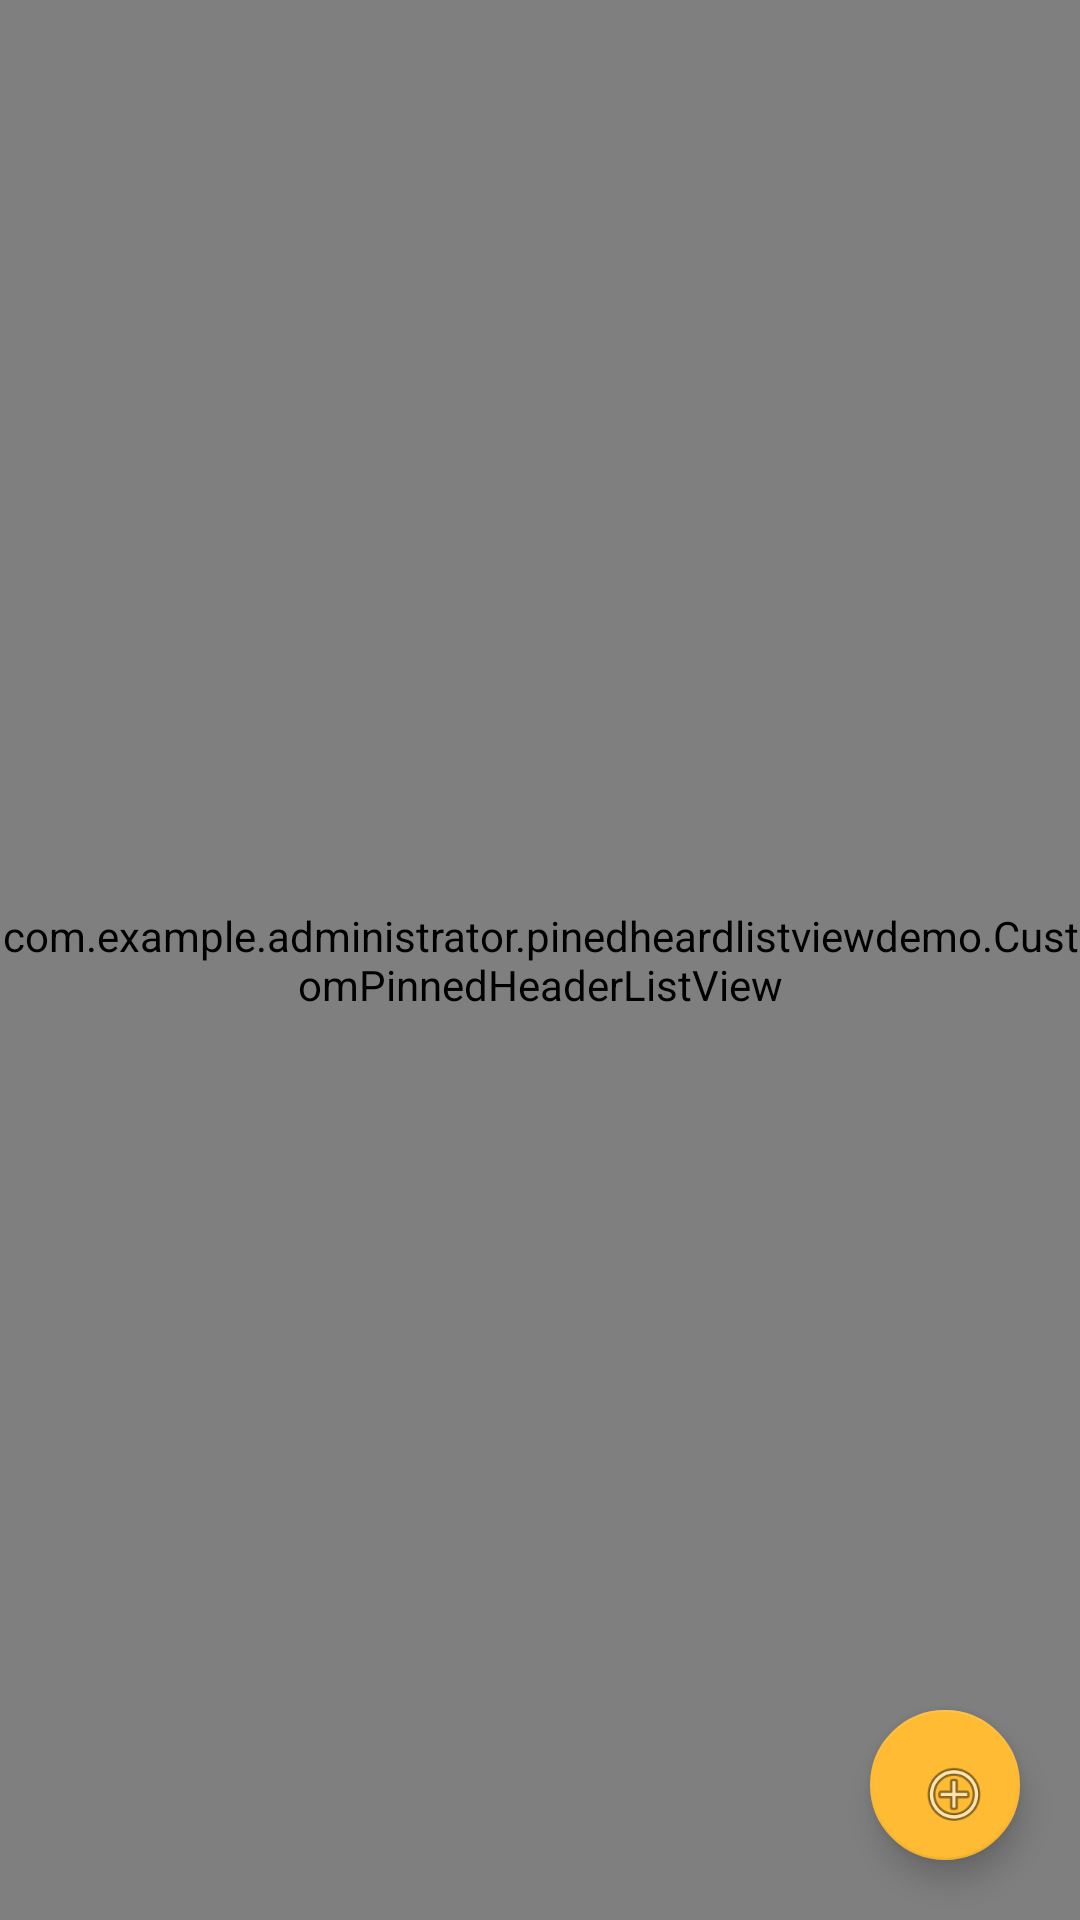

Screen size 1080*1920. Icon name, then its box in pixels as {"left": x1, "top": y1, "right": x2, "bottom": y2}:
add: {"left": 870, "top": 1710, "right": 1020, "bottom": 1860}
